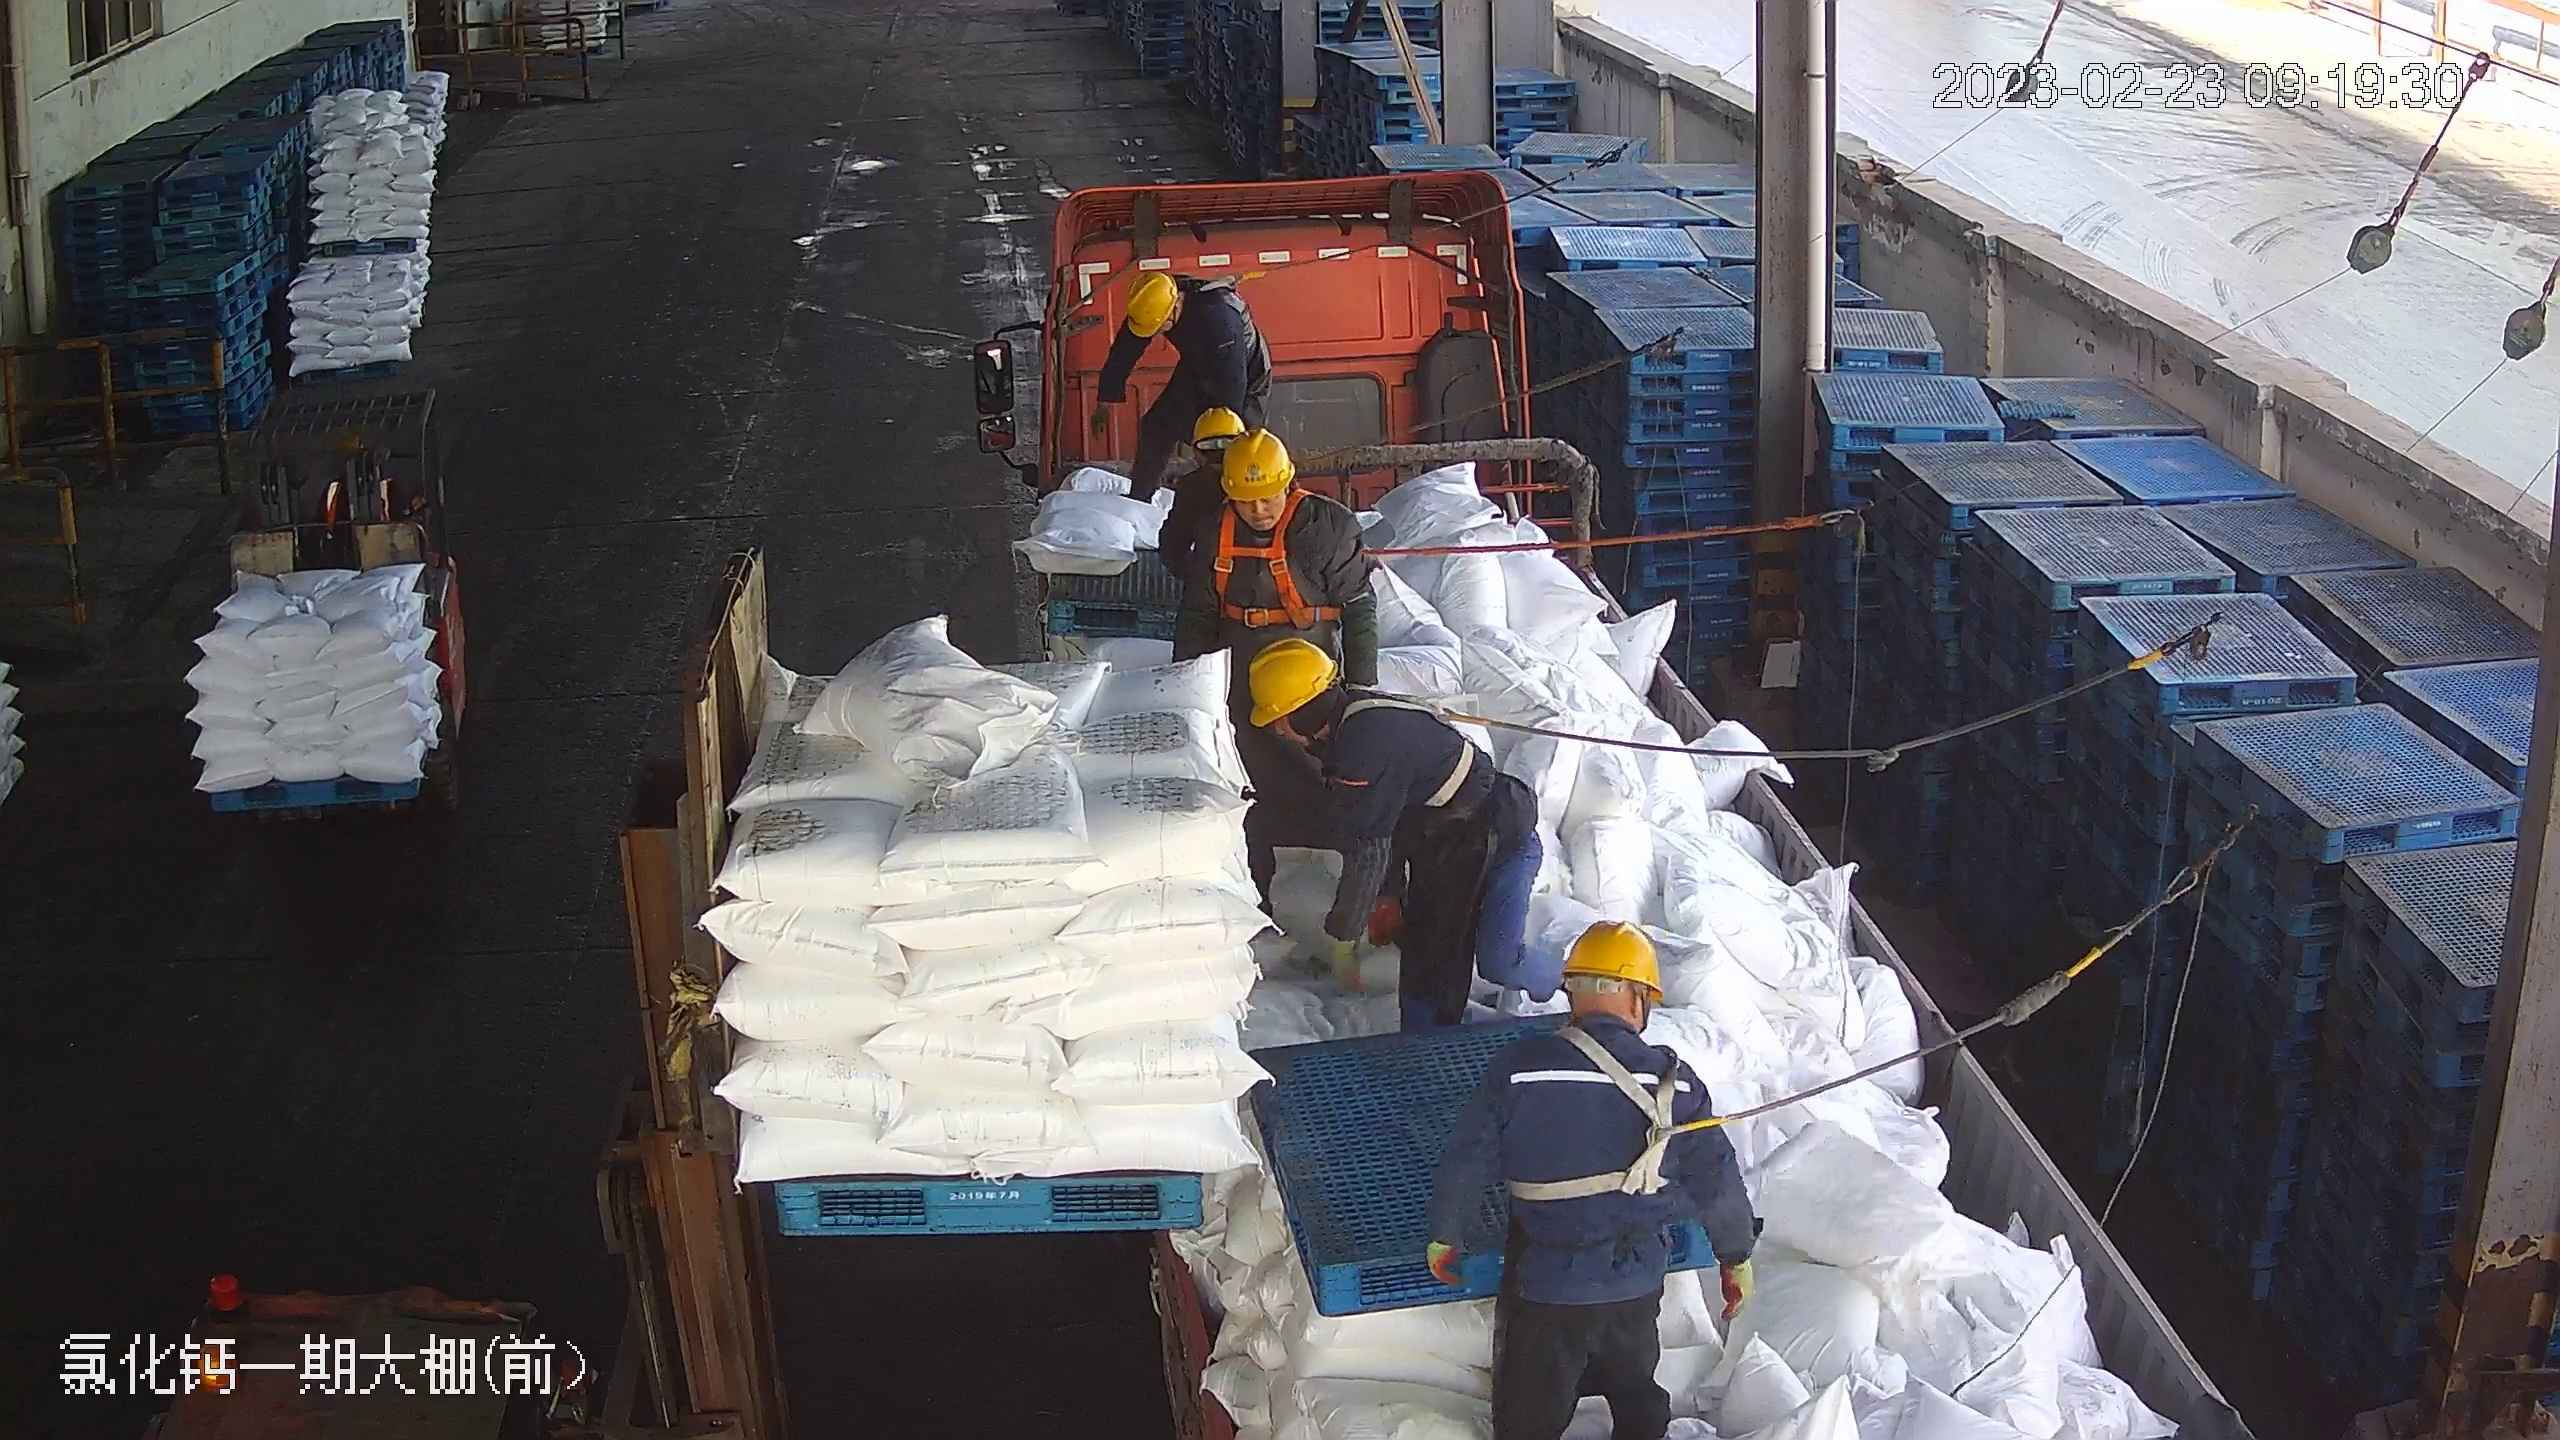belt: (1493, 1017, 1749, 1205), (1330, 682, 1506, 815), (1213, 492, 1335, 628), (1195, 266, 1270, 306)
head: (1478, 919, 1708, 1131), (1250, 644, 1433, 792), (1194, 426, 1357, 580), (1116, 270, 1231, 363)
helmet: (1559, 919, 1662, 999), (1249, 638, 1338, 726), (1223, 429, 1293, 499), (1125, 272, 1175, 338), (1187, 403, 1243, 448)
people: (1452, 918, 1754, 1438), (1252, 636, 1538, 1029), (1179, 436, 1402, 898), (1100, 269, 1276, 484)
truck: (979, 160, 2243, 1434)
